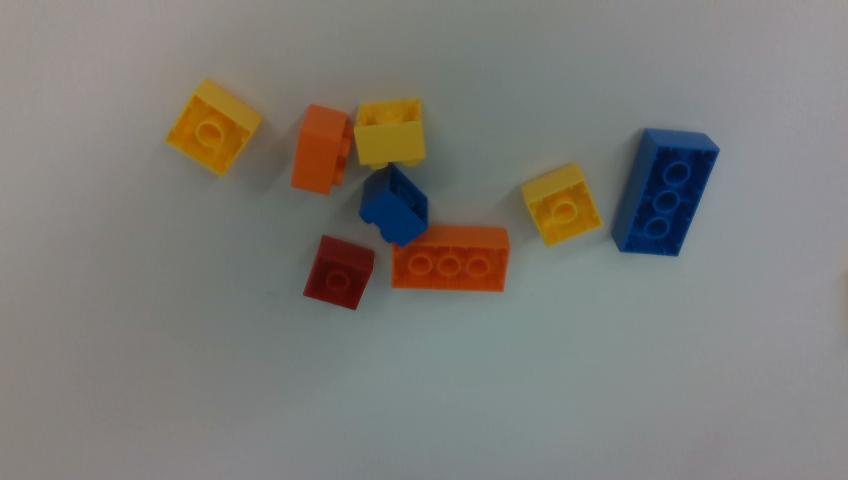2x2_blue: (360, 164, 427, 246)
2x2_orange: (291, 104, 352, 194)
2x2_red: (305, 235, 374, 309)
2x2_yellow: (166, 81, 260, 175), (524, 164, 603, 246), (354, 98, 425, 169)
4x2_blue: (612, 130, 717, 256)
4x2_orange: (394, 225, 509, 291)
